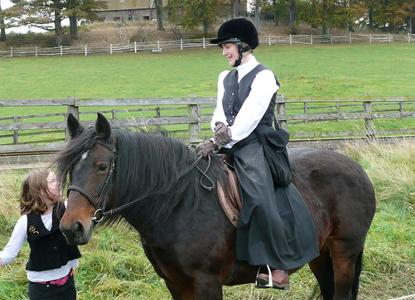person: (196, 19, 320, 289)
